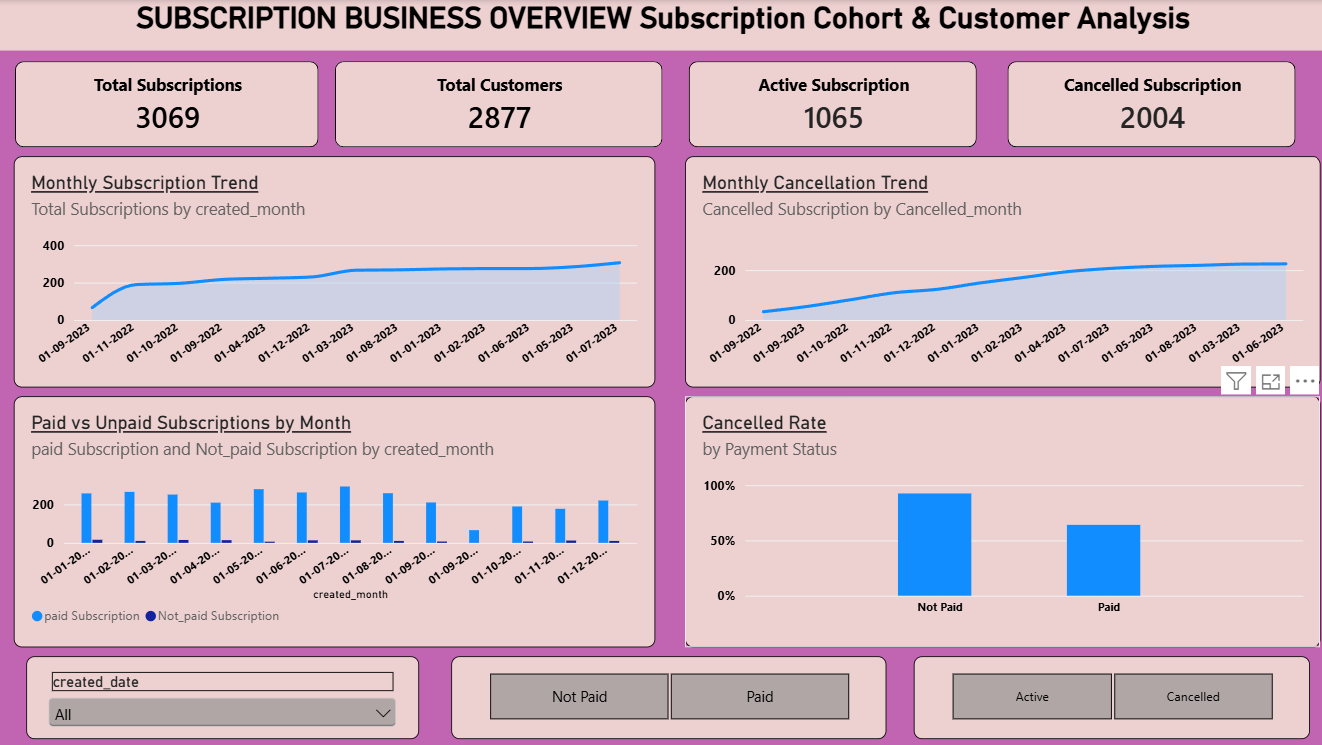

This screenshot's page, from the dashboard's own definition file:
{"tool":"powerbi","page":{"name":"Subscription Business Dashboard","canvas":[1280,720],"ordinal":0},"visuals":[{"type":"textbox","title":"SUBSCRIPTION BUSINESS OVERVIEW Subscription Cohort & Customer Analysis ","box":[0,0,1280.3,48.9],"z":0},{"type":"cardVisual","fields":{"Data":["subscriptions.Total Subscriptions"]},"box":[14.5,59.1,293.2,83.2],"z":1000},{"type":"cardVisual","fields":{"Data":["subscriptions.total_customers"]},"box":[323.3,59.1,316.1,83.2],"z":2000},{"type":"cardVisual","fields":{"Data":["subscriptions.Active subscription"]},"box":[664.7,59.1,278.7,83.2],"z":3000},{"type":"cardVisual","fields":{"Data":["subscriptions.Cancelled Subscription"]},"box":[972.4,59.1,278.7,83.2],"z":4000},{"type":"lineChart","title":"Monthly Subscription Trend","fields":{"Category":["subscriptions.created_month"],"Y":["subscriptions.Total Subscriptions"]},"box":[13.3,150.8,618.9,223.2],"z":5000},{"type":"lineChart","title":"Monthly Cancellation Trend","fields":{"Category":["subscriptions.Cancelled_month"],"Y":["subscriptions.Cancelled Subscription"]},"box":[661.1,150.8,614.1,223.2],"z":6000},{"type":"clusteredColumnChart","title":"Paid vs Unpaid Subscriptions by Month","fields":{"Category":["subscriptions.created_month"],"Y":["subscriptions.paid Subscription","customers.Not_paid Subscription"]},"box":[13.3,382.4,618.9,242.5],"z":7000},{"type":"clusteredColumnChart","fields":{"Category":["subscriptions.Payment Status"],"Y":["subscriptions.Cancelled Rate"]},"box":[661.1,382.4,614.1,242.5],"z":8000},{"type":"slicer","fields":{"Values":["subscriptions.created_date"]},"box":[25.3,633.4,378.8,79.6],"z":8001},{"type":"slicer","fields":{"Values":["subscriptions.Payment Status"]},"box":[435.5,633.4,419.8,79.6],"z":8002},{"type":"slicer","fields":{"Values":["subscriptions.subscription_status"]},"box":[881.9,633.4,382.4,79.6],"z":8003}]}

Visuals, with their boxes in screenshot pixels (x1, y1, x2, y2), scaled from the page's 1280x720 canvas onto the 1322x745 screenshot:
"SUBSCRIPTION BUSINESS OVERVIEW Subscription Cohort & Customer Analysis " textbox: locate(0, 0, 1321, 51)
cardVisual - subscriptions.Total Subscriptions: locate(15, 61, 318, 147)
cardVisual - subscriptions.total_customers: locate(334, 61, 660, 147)
cardVisual - subscriptions.Active subscription: locate(687, 61, 974, 147)
cardVisual - subscriptions.Cancelled Subscription: locate(1004, 61, 1292, 147)
"Monthly Subscription Trend" lineChart: locate(14, 156, 653, 387)
"Monthly Cancellation Trend" lineChart: locate(683, 156, 1317, 387)
"Paid vs Unpaid Subscriptions by Month" clusteredColumnChart: locate(14, 396, 653, 647)
clusteredColumnChart - subscriptions.Payment Status x subscriptions.Cancelled Rate: locate(683, 396, 1317, 647)
slicer - subscriptions.created_date: locate(26, 655, 417, 738)
slicer - subscriptions.Payment Status: locate(450, 655, 883, 738)
slicer - subscriptions.subscription_status: locate(911, 655, 1306, 738)
